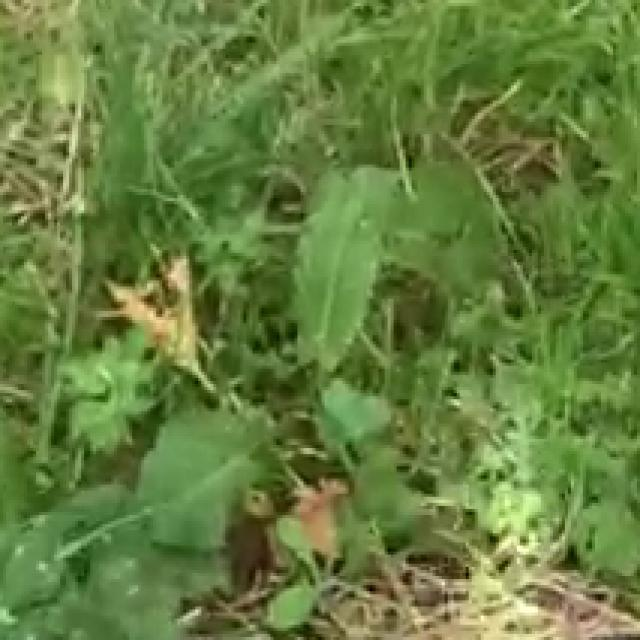organic waste: (261, 104, 508, 405), (30, 381, 298, 640)
